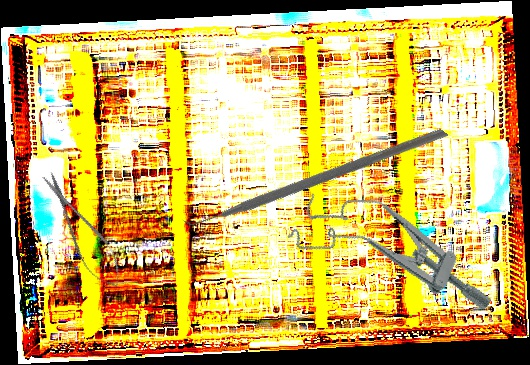Chopper: (170, 29, 449, 317)
Micro Scissor: (33, 165, 131, 296)
Speculum: (284, 172, 510, 327)
